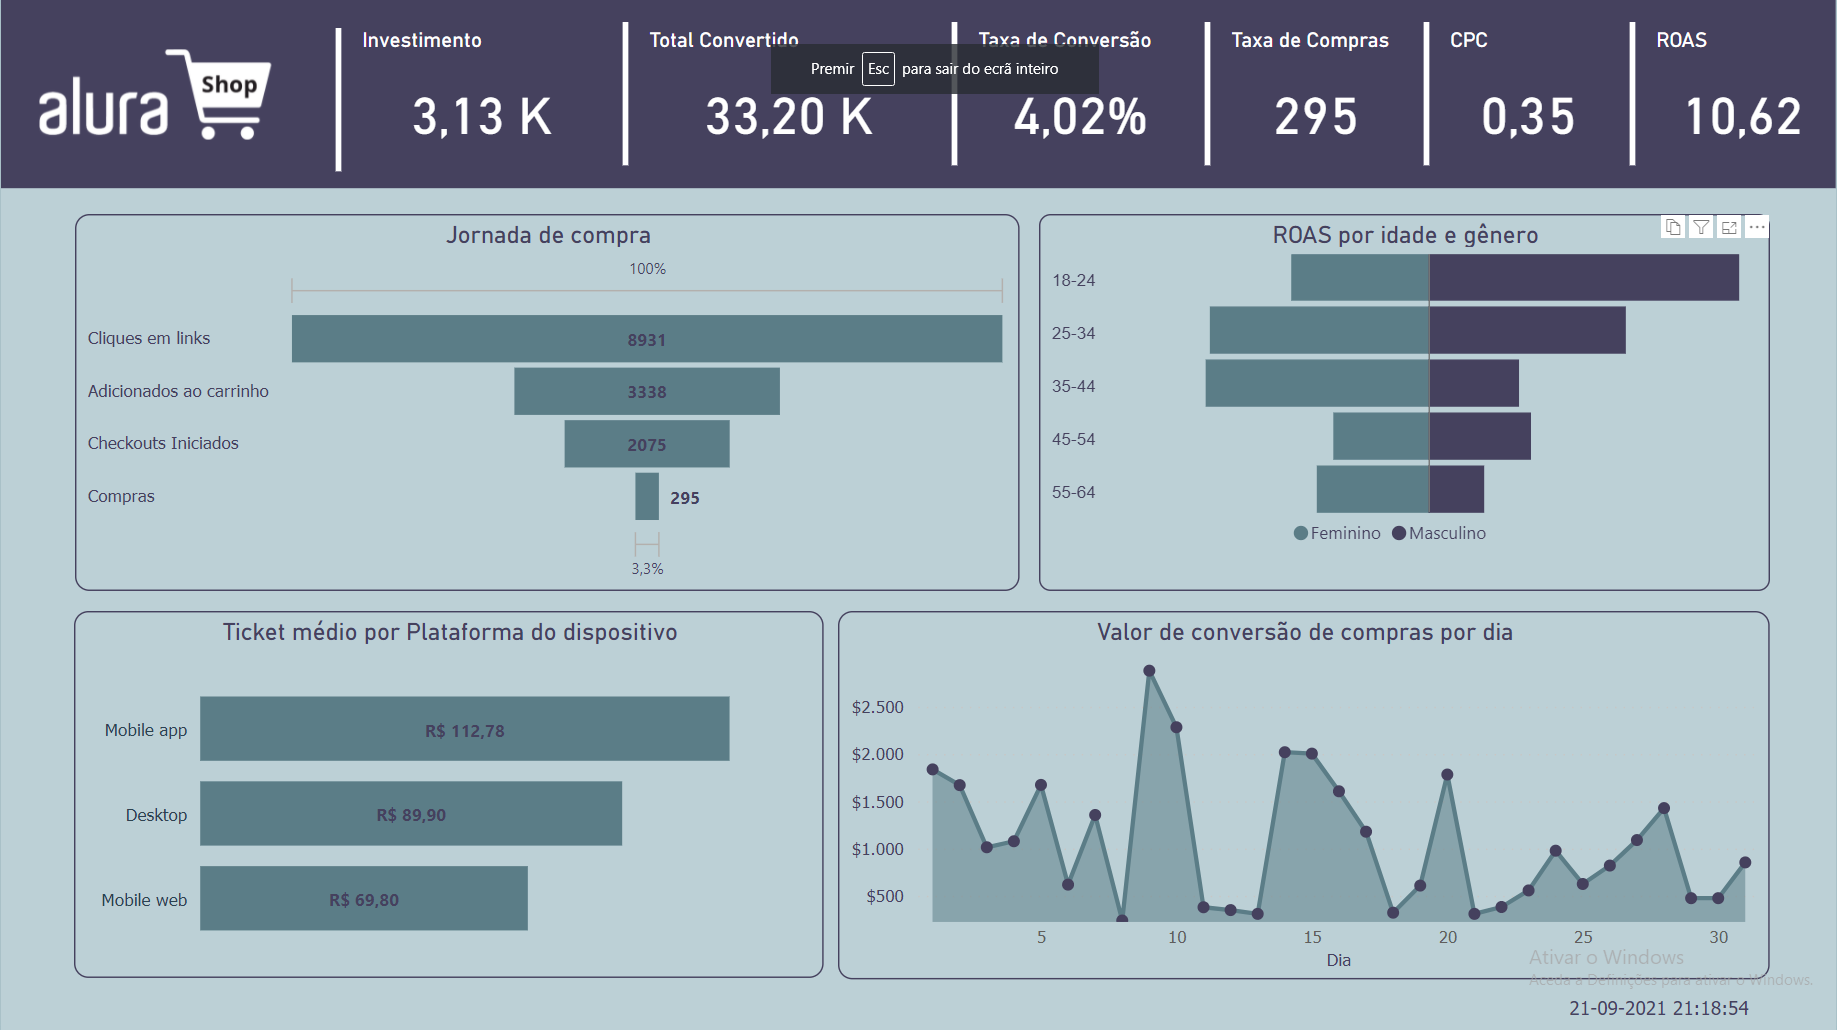

Layout of this report page (visuals, bound fields, positions):
{"tool":"powerbi","page":{"name":"Página 1","canvas":[1280,720],"ordinal":0},"visuals":[{"type":"shape","box":[0,0,1280.2,132.3],"z":0},{"type":"card","title":"Taxa de Compras","fields":{"Values":["Tabela_dispositivos.Total de Compras"]},"box":[853.4,20.4,128.7,100.3],"z":1000},{"type":"card","title":"Total Convertido","fields":{"Values":["Tabela_dispositivos.Total convertido em compras"]},"box":[447.5,20.4,205.1,100.3],"z":2000},{"type":"card","title":"Investimento","fields":{"Values":["Tabela_dispositivos.Total investido"]},"box":[246.8,20.4,176.7,100.3],"z":3000},{"type":"card","title":"CPC","fields":{"Values":["Tabela_dispositivos.CPC"]},"box":[1006.1,20.4,119.9,100.3],"z":4000},{"type":"card","title":"Taxa de Conversão","fields":{"Values":["Tabela_dispositivos.Taxa de Conversão"]},"box":[676.6,20.4,152.7,100.3],"z":5000},{"type":"card","title":"ROAS","fields":{"Values":["Tabela_dispositivos.ROAS"]},"box":[1150,20,130,100.3],"z":6000},{"type":"image","box":[21.3,24.9,172.2,82.6],"z":7000},{"type":"shape","box":[223.7,20.4,23.1,100.3],"z":8000},{"type":"shape","box":[424.4,16,23.1,100.3],"z":9000},{"type":"shape","box":[653.4,16,23.1,100.3],"z":10000},{"type":"shape","box":[830.1,16,23.1,100.3],"z":11000},{"type":"shape","box":[982.8,16,23.1,100.3],"z":12000},{"type":"shape","box":[1126.6,16,23.1,100.3],"z":13000},{"type":"funnel","title":"Jornada de compra","fields":{"Y":["Sum(Tabela_dispositivos.Cliques em links)","Sum(Tabela_dispositivos.Adicionados ao carrinho)","Sum(Tabela_dispositivos.Checkouts Iniciados)","Sum(Tabela_dispositivos.Compras)"]},"box":[51.5,150,658.7,262.8],"z":14000},{"type":"TornadoChart1452517688218","title":"ROAS por idade e gênero","fields":{"Category":["Tabela_idade_e_genero.Idade"],"Values":["Tabela_dispositivos.ROAS"],"Series":["Tabela_idade_e_genero.Gênero"]},"box":[724.4,150,509.6,262.8],"z":15000},{"type":"areaChart","title":"Valor de conversão de compras por dia","fields":{"Category":["Tabela_idade_e_genero.Dia.Variation.Hierarquia de datas.Dia"],"Y":["Sum(Tabela_idade_e_genero.Valor de conversão de compras)"]},"box":[584.2,427,649.9,256.6],"z":16000},{"type":"clusteredBarChart","fields":{"Category":["Tabela_dispositivos.Plataforma do dispositivo"],"Y":["Tabela_dispositivos.Ticket médio"]},"box":[51.1,427,522.6,256.4],"z":17000},{"type":"card","title":"Atualizado em :","fields":{"Values":["Min(Última atualização.Última atualização)"]},"box":[1079.5,692.7,154.9,27.3],"z":17001}]}

Visuals, with their boxes on the page's 1280x720 design canvas (x1, y1, x2, y2). These are canvas units, not pixel positions in the 1837x1030 screenshot, which may show the page scaled, cropped or inside an application window:
shape: rect(0, 0, 1280, 132)
"Taxa de Compras" card: rect(853, 20, 982, 121)
"Total Convertido" card: rect(448, 20, 653, 121)
"Investimento" card: rect(247, 20, 424, 121)
"CPC" card: rect(1006, 20, 1126, 121)
"Taxa de Conversão" card: rect(677, 20, 829, 121)
"ROAS" card: rect(1150, 20, 1280, 120)
image: rect(21, 25, 194, 108)
shape: rect(224, 20, 247, 121)
shape: rect(424, 16, 448, 116)
shape: rect(653, 16, 676, 116)
shape: rect(830, 16, 853, 116)
shape: rect(983, 16, 1006, 116)
shape: rect(1127, 16, 1150, 116)
"Jornada de compra" funnel: rect(52, 150, 710, 413)
"ROAS por idade e gênero" TornadoChart1452517688218: rect(724, 150, 1234, 413)
"Valor de conversão de compras por dia" areaChart: rect(584, 427, 1234, 684)
clusteredBarChart - Tabela_dispositivos.Plataforma do dispositivo x Tabela_dispositivos.Ticket médio: rect(51, 427, 574, 683)
"Atualizado em :" card: rect(1080, 693, 1234, 720)
